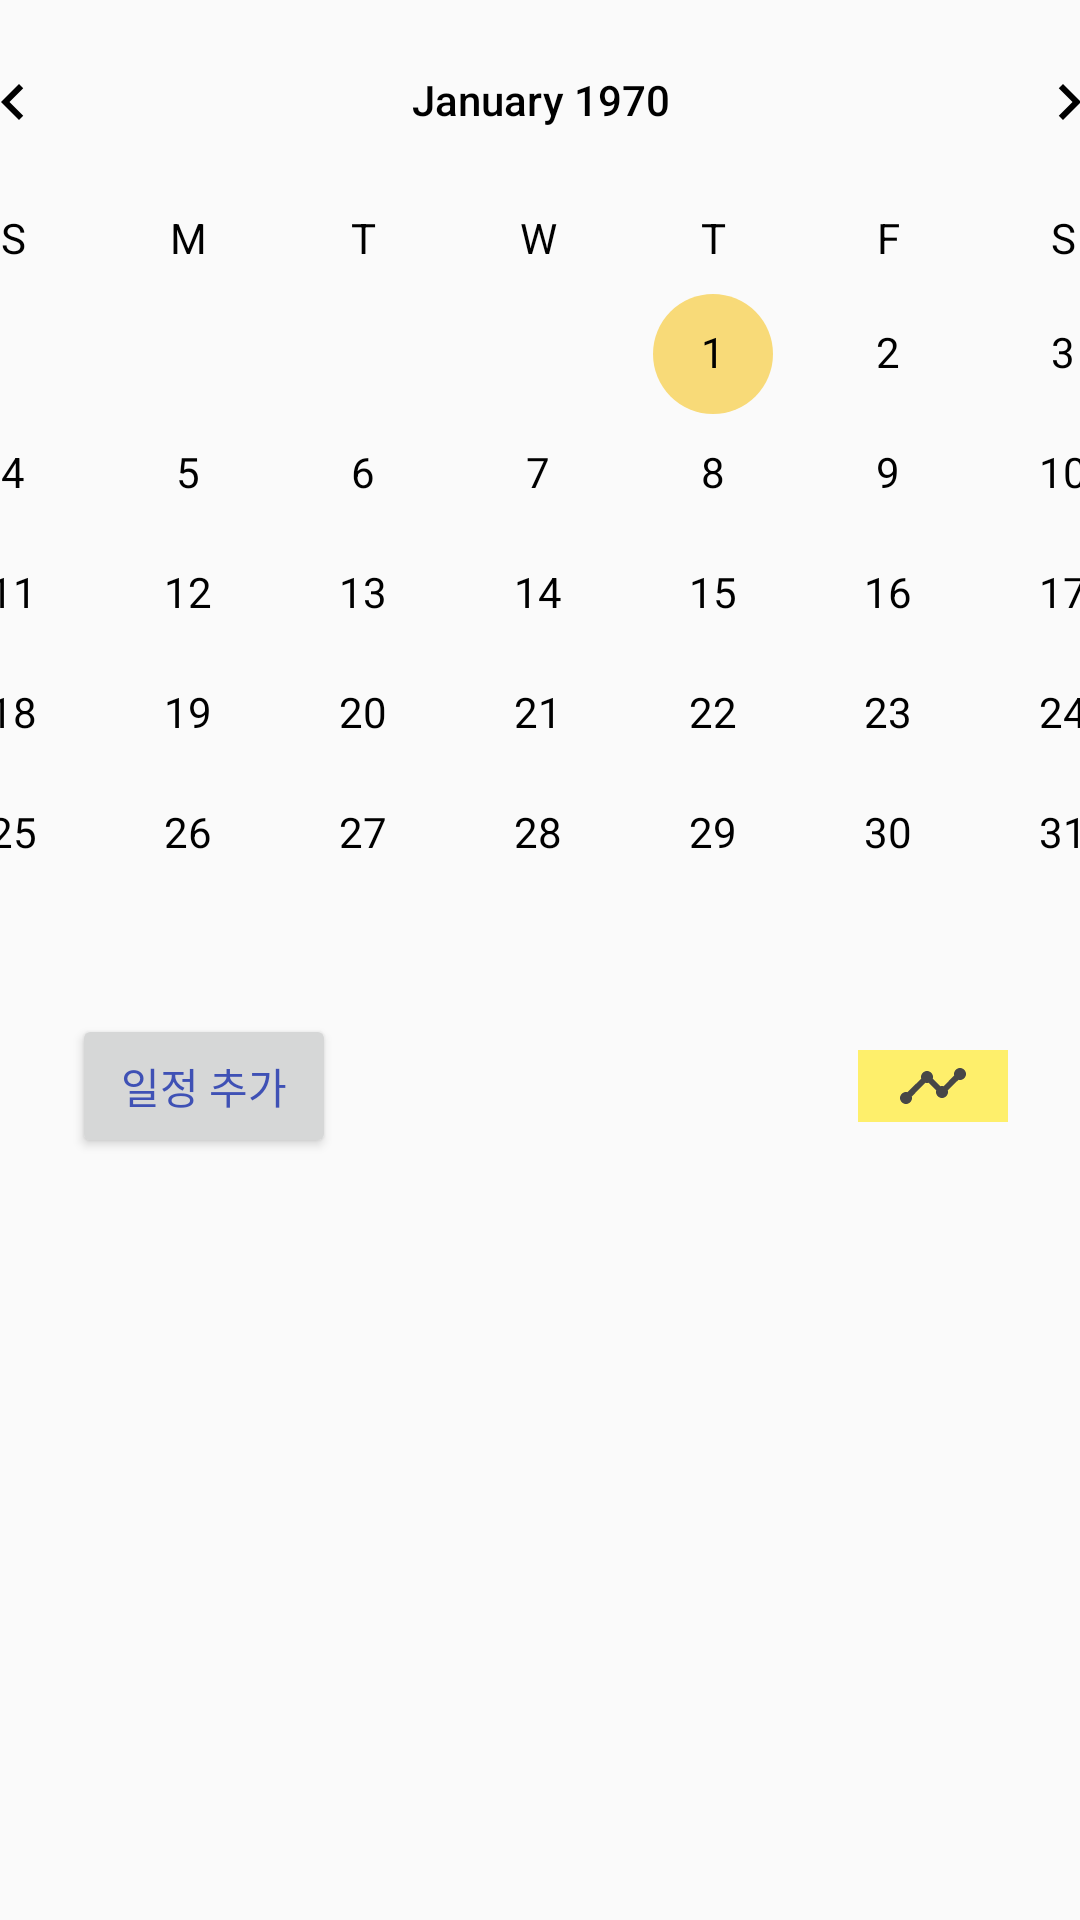

Named icons in this screenshot (1080px x 1920px) and their bounding boxes, (x1, y1, x2, y2):
timeline: (858, 1050, 1008, 1122)
